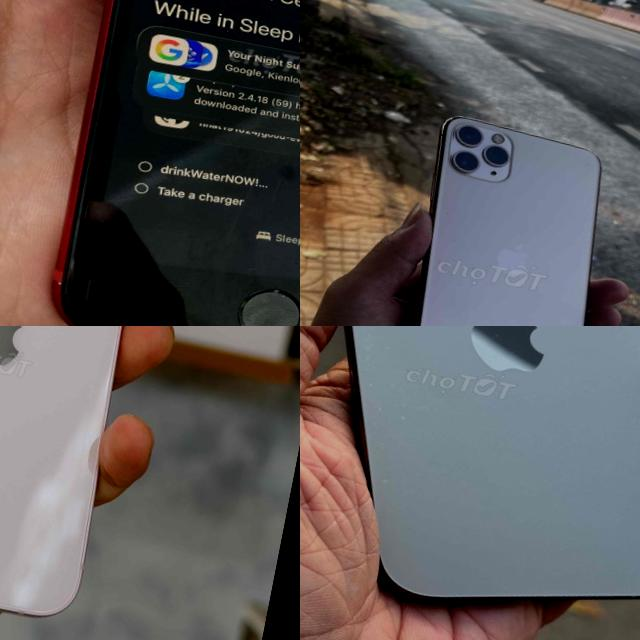gen_11: (382, 102, 635, 326)
gen_12_13: (0, 326, 178, 629)
gen_15: (300, 326, 640, 640)
gen_7_8: (15, 0, 300, 326)
